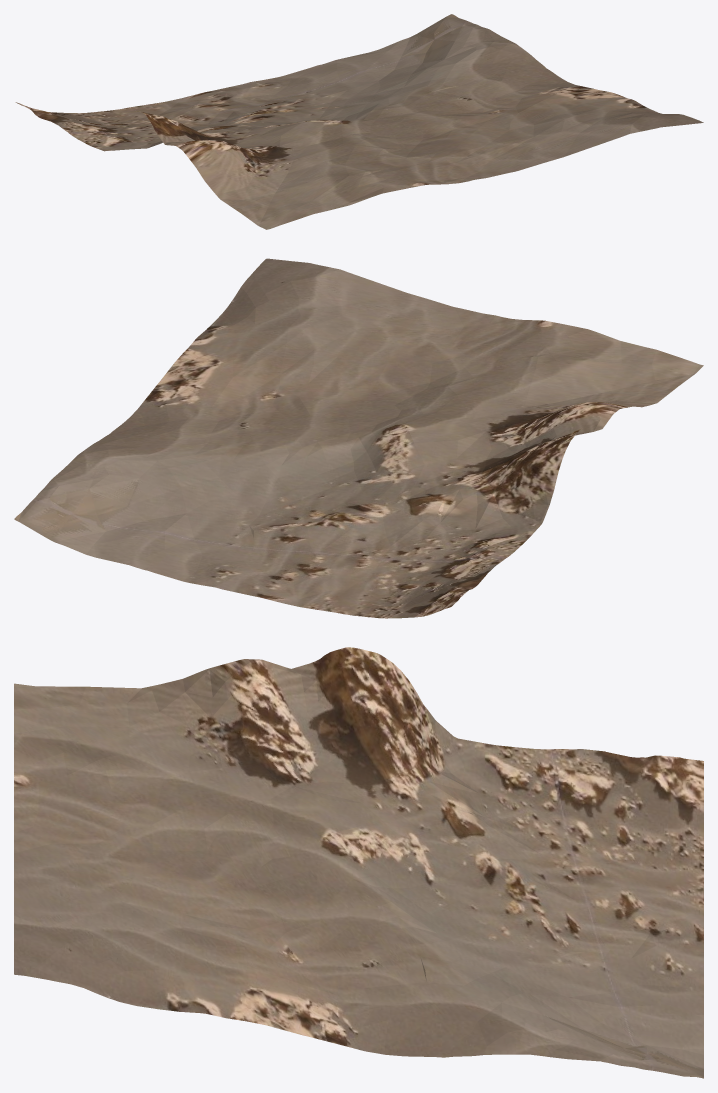
3 views of the same model, one above another, from view 1: azimuth 30°, elevation 25°; view 2: azimuth 150°, elevation 25°; view 3: azimuth 270°, elevation 25° (orthographic). The views are drawn at different scales.
Bounding box in the file's own units: 1.04 × 0.2809 × 1.04.
Materials: 2 (2 with a texture image).
